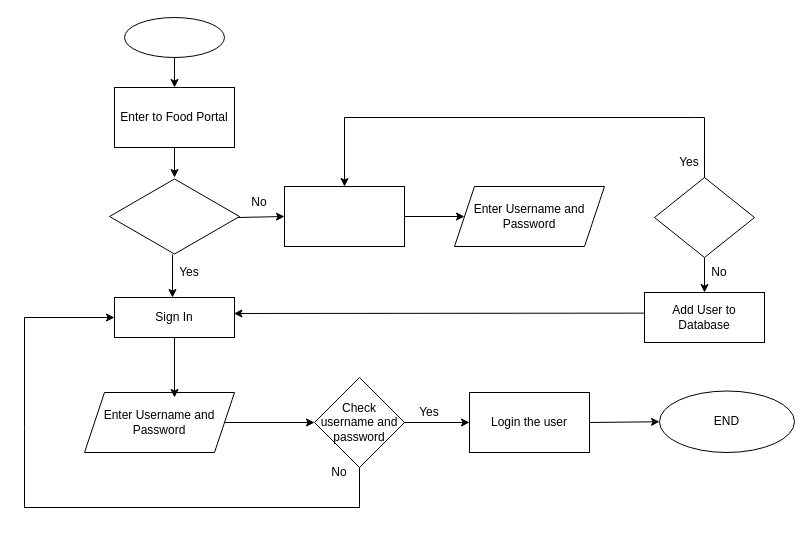
The diagram is 812 pixels wide and 533 high, and some of its shapes have lost their labels. The centre of each missing label's shape, as x and y in pixels:
"Check if username duplicates" goes at pixel 704 217.
"Create a new User" goes at pixel 344 216.
"Have Username" goes at pixel 174 216.
"START" goes at pixel 174 37.
